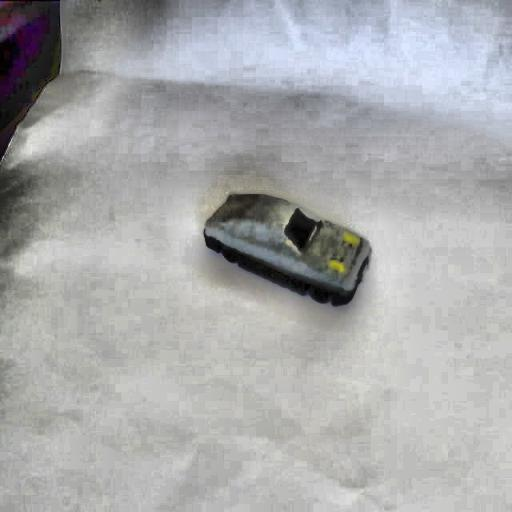normal_car: (200, 188, 372, 307)
